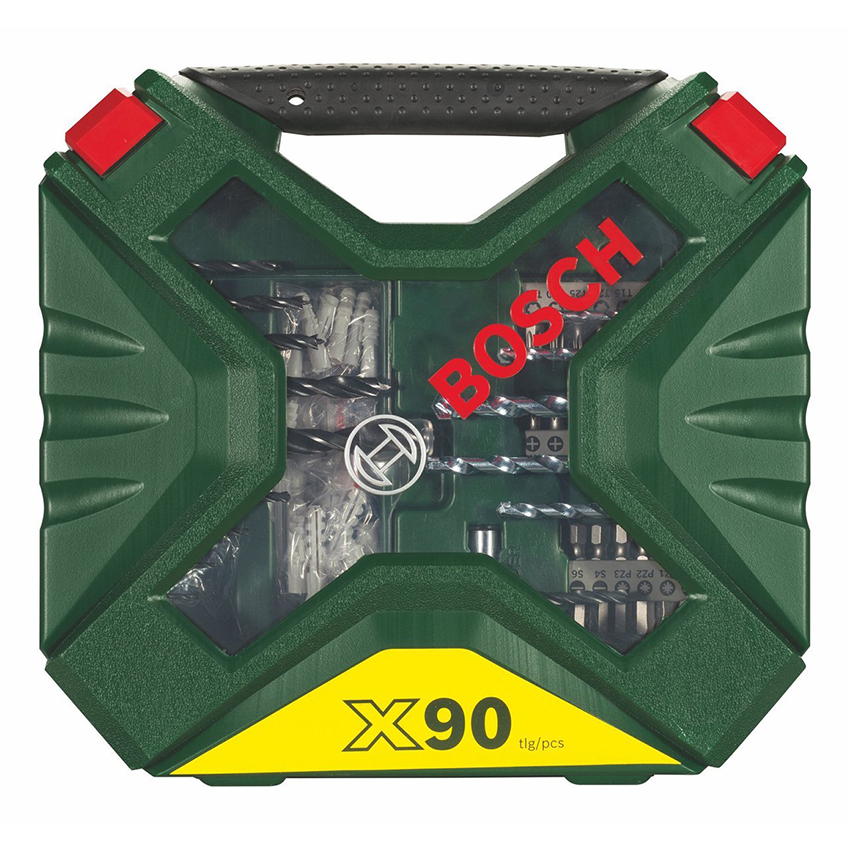Bosch: (424, 208, 648, 428)
